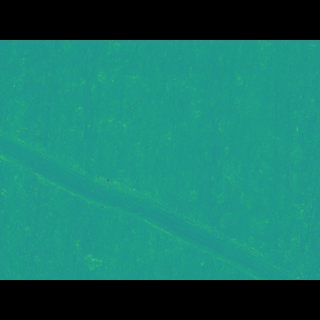Loch: (0, 136, 303, 250)
